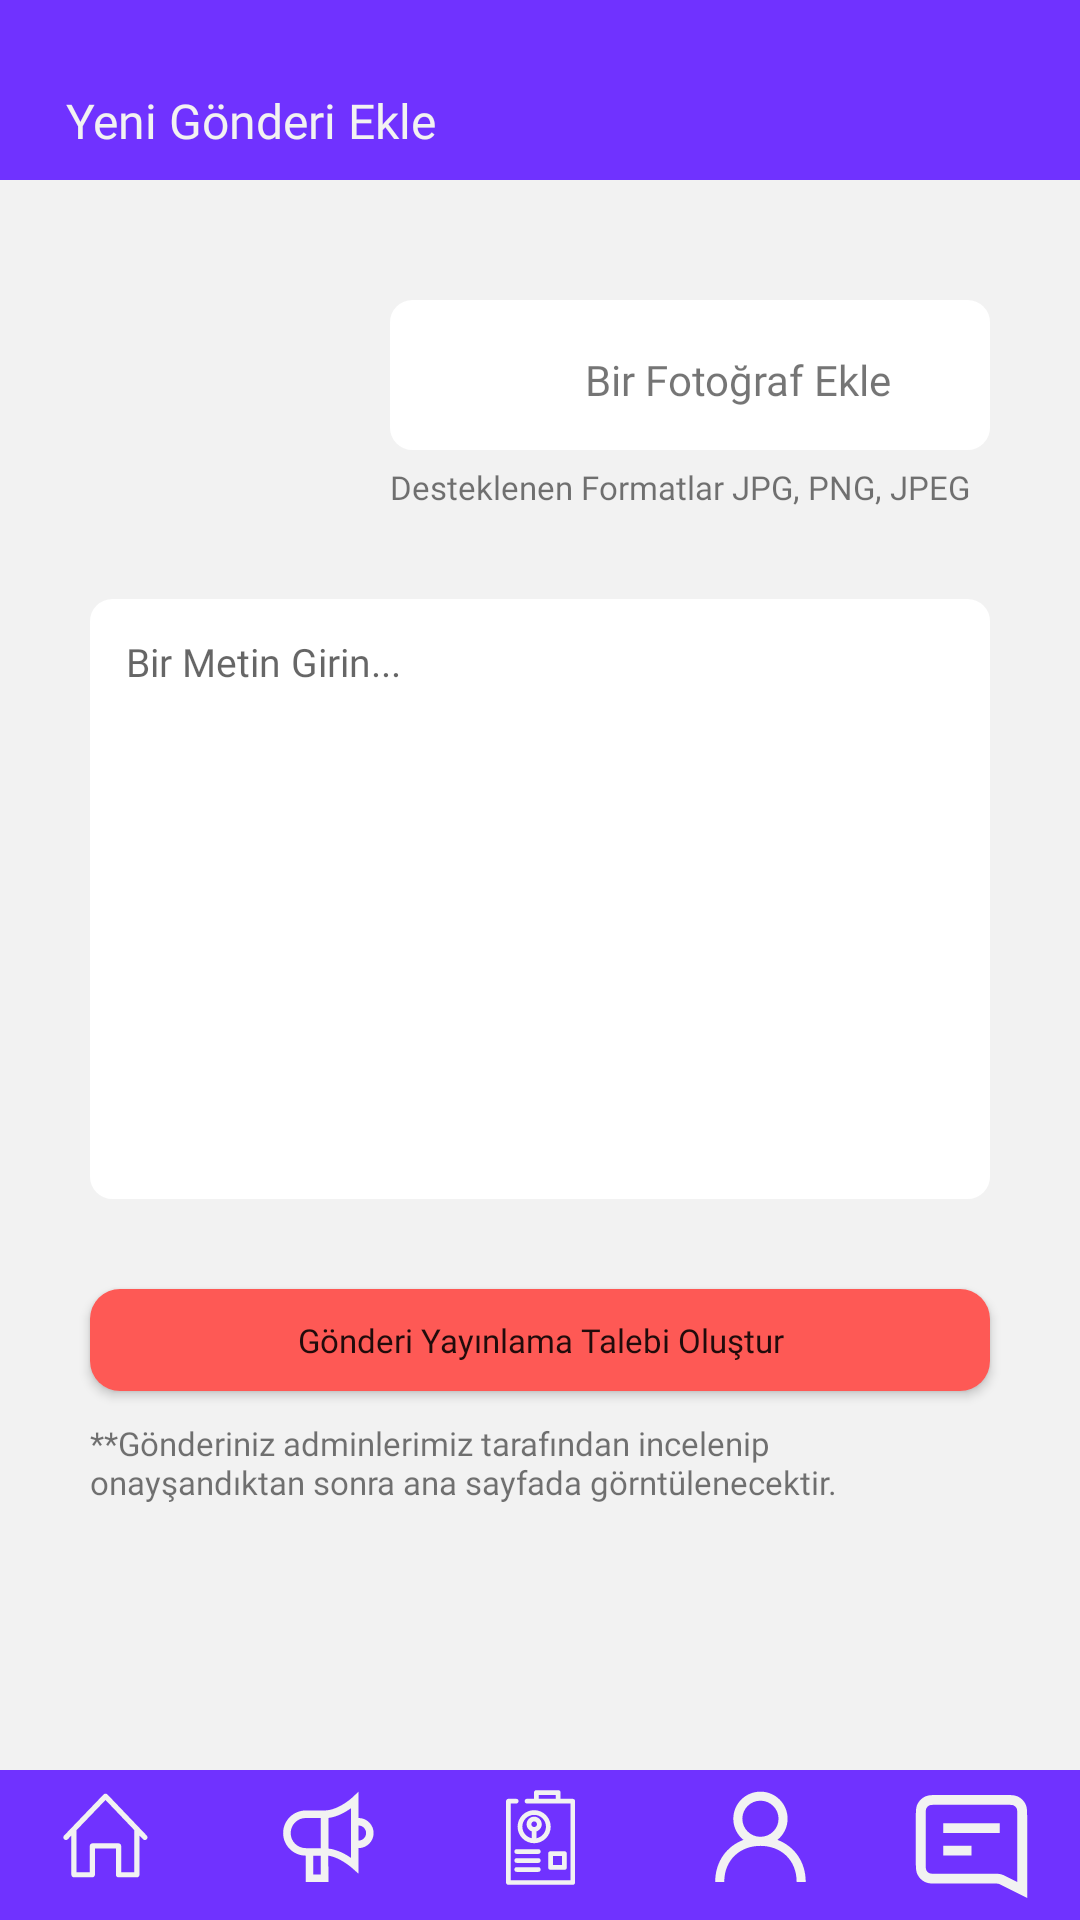

Point at icon controls on the screen. Image size 1080w x 1920h, points as (x=x, y=y).
announcement: (x=328, y=1837)
homepagebtn: (x=105, y=1835)
messagebtn: (x=971, y=1846)
profilebtn: (x=760, y=1836)
